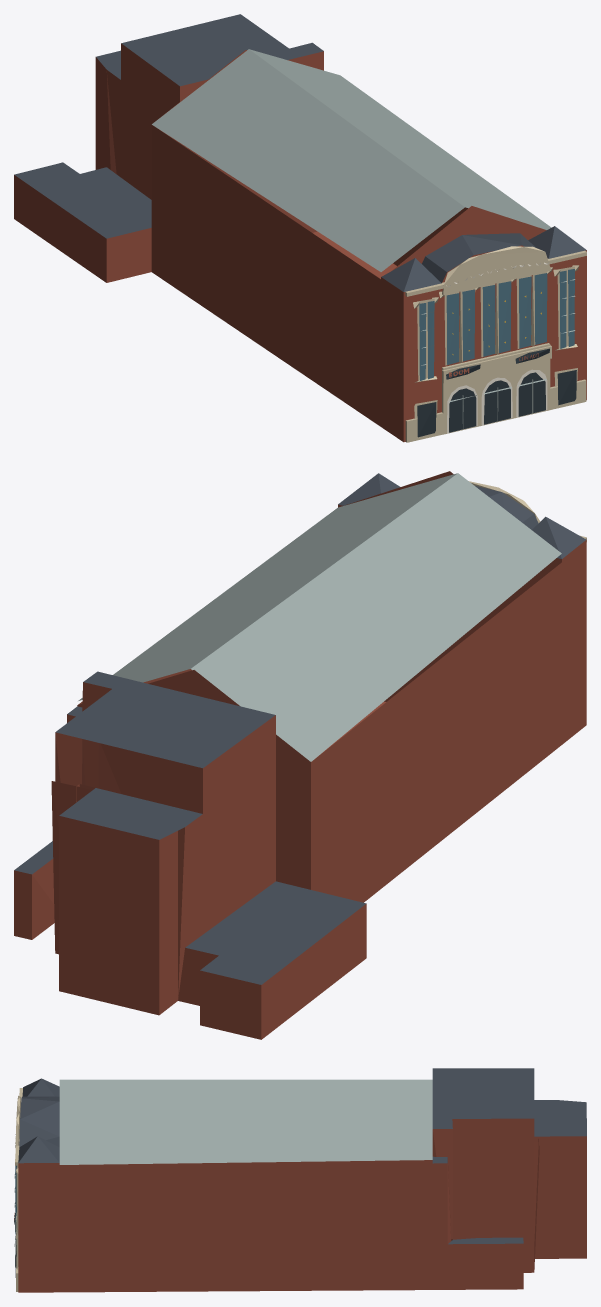
Rendered from boom-chicago.lod1.glb.
3 views of the same model, one above another, from view 1: azimuth 30°, elevation 25°; view 2: azimuth 150°, elevation 25°; view 3: azimuth 270°, elevation 25° (orthographic). The views are drawn at different scales.
Visible parts, largest first — view 1: boom-chicago; view 2: boom-chicago; view 3: boom-chicago.
Part boxes in pixels (bbox=[...]): boom-chicago: bbox=[14, 14, 586, 442]; boom-chicago: bbox=[14, 471, 586, 1039]; boom-chicago: bbox=[14, 1068, 586, 1292].
Size of the model in its own units: 18.53 by 14.47 by 43.7.
